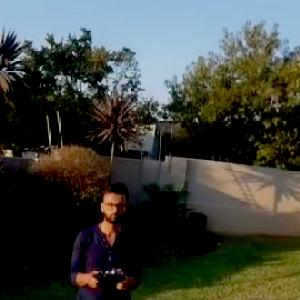follow: (65, 178, 144, 299)
